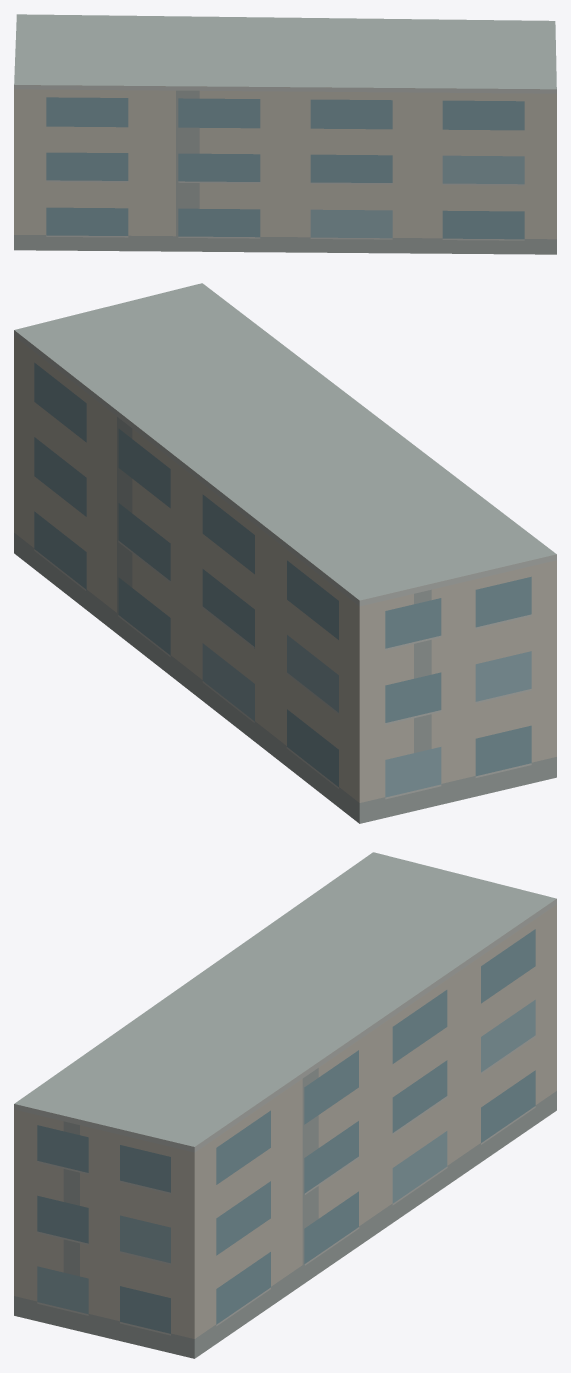
The model's file is survey-upis-32744412.glb.
The picture shows the model from 3 angles, top to bottom: view 1: azimuth 30°, elevation 25°; view 2: azimuth 150°, elevation 25°; view 3: azimuth 270°, elevation 25°; orthographic projection. The views are drawn at different scales.
Parts seen in each view (by area): view 1: survey-upis-32744412.tmp; view 2: survey-upis-32744412.tmp; view 3: survey-upis-32744412.tmp.
Boxes of the visible parts, x1,y1,x2,y2 form: survey-upis-32744412.tmp: (14, 14, 556, 254); survey-upis-32744412.tmp: (14, 283, 556, 823); survey-upis-32744412.tmp: (14, 852, 556, 1358).
Size of the model in its own units: 27.33 by 9.15 by 21.26.
